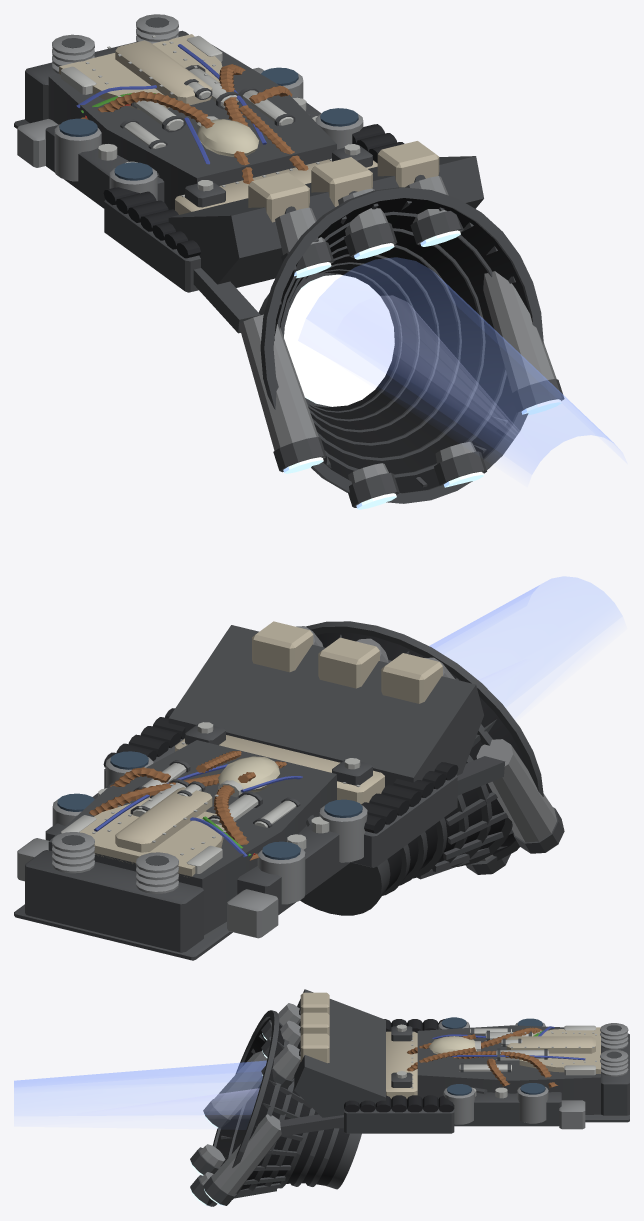
File: thruster.glb
The picture shows the model from 3 angles, top to bottom: view 1: azimuth 30°, elevation 25°; view 2: azimuth 150°, elevation 25°; view 3: azimuth 270°, elevation 25°; orthographic projection. The views are drawn at different scales.
Visible parts, largest first — view 1: body, anim_glow_plume, anim_glow_flame; view 2: body, anim_glow_plume; view 3: body, anim_glow_plume.
Part boxes in pixels (bbox=[...]): body: bbox=[14, 14, 564, 507]; anim_glow_plume: bbox=[306, 257, 619, 474]; anim_glow_flame: bbox=[283, 230, 561, 509]; body: bbox=[14, 621, 564, 960]; anim_glow_plume: bbox=[429, 576, 622, 707]; body: bbox=[190, 989, 629, 1206]; anim_glow_plume: bbox=[14, 1061, 266, 1117].
Size of the model in its own units: 3.99 by 3.73 by 11.74.
